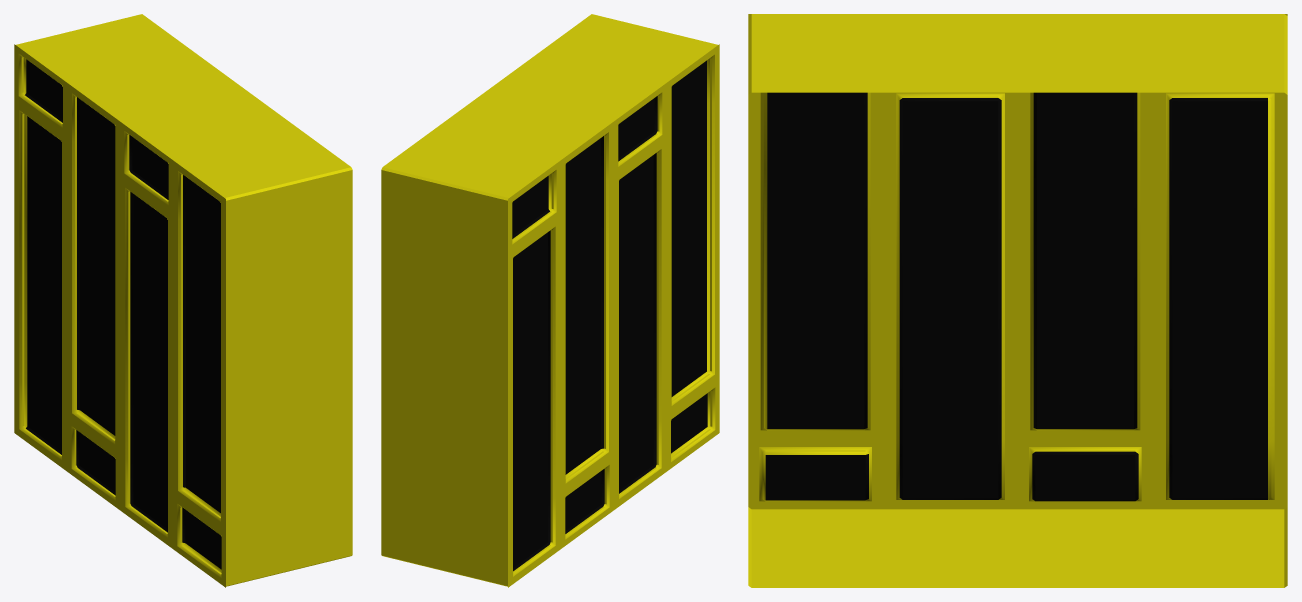
The model's file is balcon 4HI.fbx.
3 views of the same model, side by side, from view 1: azimuth 30°, elevation 25°; view 2: azimuth 150°, elevation 25°; view 3: azimuth 270°, elevation 25° (orthographic). The views are drawn at different scales.
Visible parts, largest first — view 1: HI; view 2: HI; view 3: HI.
Part boxes in pixels (box(x1,y1,x2,y2)): HI: box(14, 14, 352, 587); HI: box(381, 14, 719, 587); HI: box(748, 14, 1287, 587).
Bounding box in the file's own units: 148 × 433 × 427.
